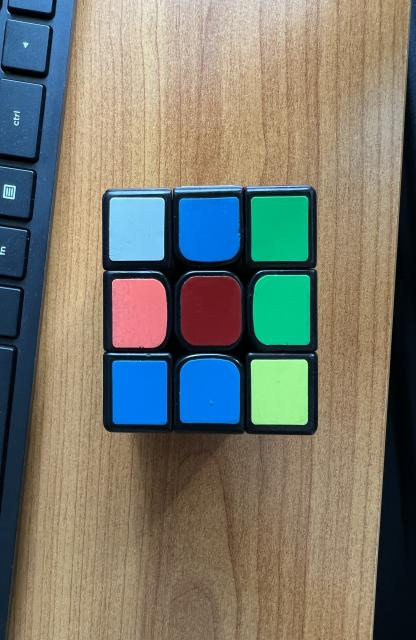Blue: (179, 196, 240, 262), (180, 358, 240, 424), (112, 360, 168, 425)
Green: (252, 275, 310, 345), (250, 196, 309, 261)
Orange: (112, 279, 167, 348)
Red: (181, 276, 242, 346)
White: (109, 198, 165, 261)
Yellow: (250, 359, 308, 425)
